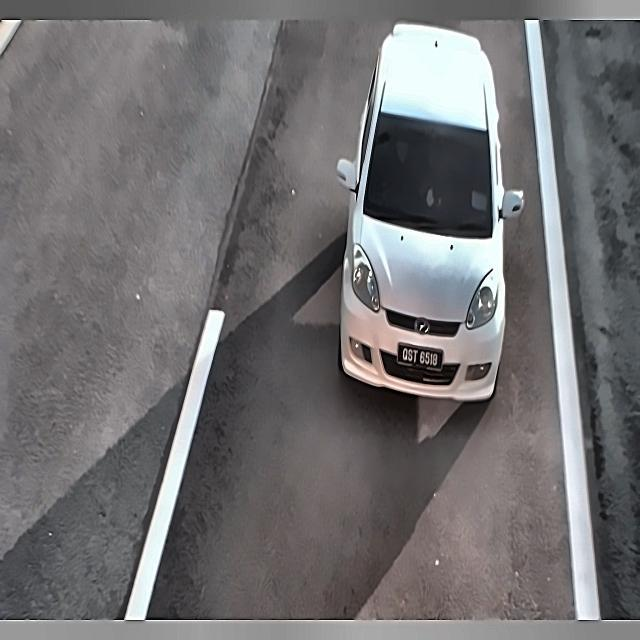car: (392, 336, 452, 376)
